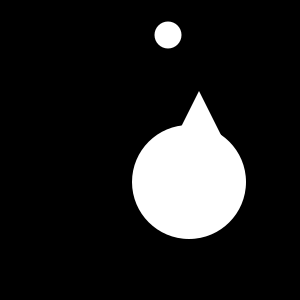rectangle: (132, 125, 246, 239), (154, 22, 182, 49)
triangle: (171, 91, 227, 147)
